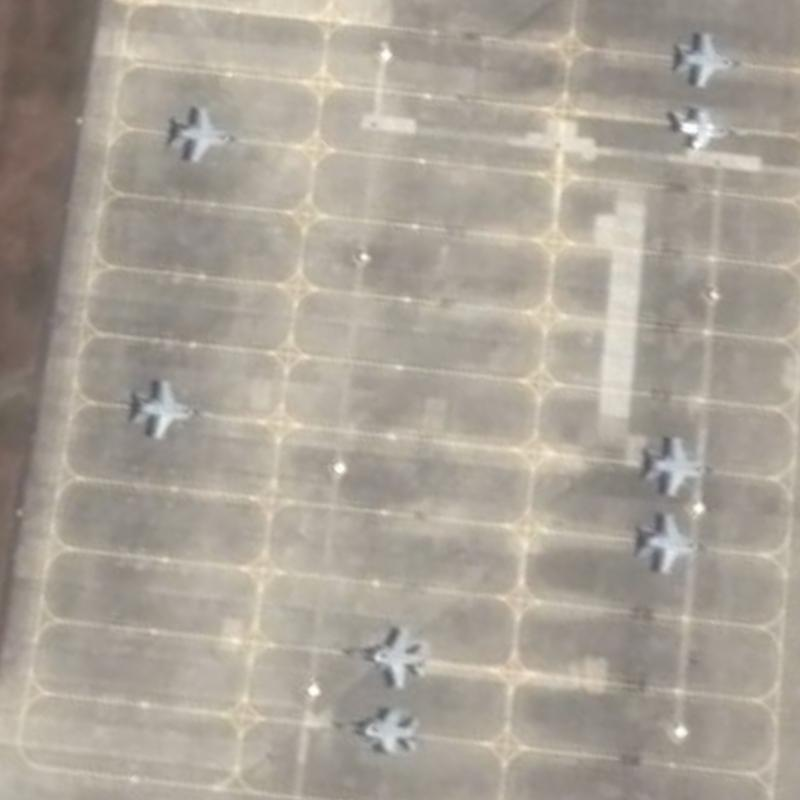A16: (325, 615, 438, 693), (628, 428, 729, 501), (629, 504, 719, 583), (323, 695, 426, 764), (666, 19, 757, 96), (164, 94, 248, 171), (123, 370, 208, 443)
